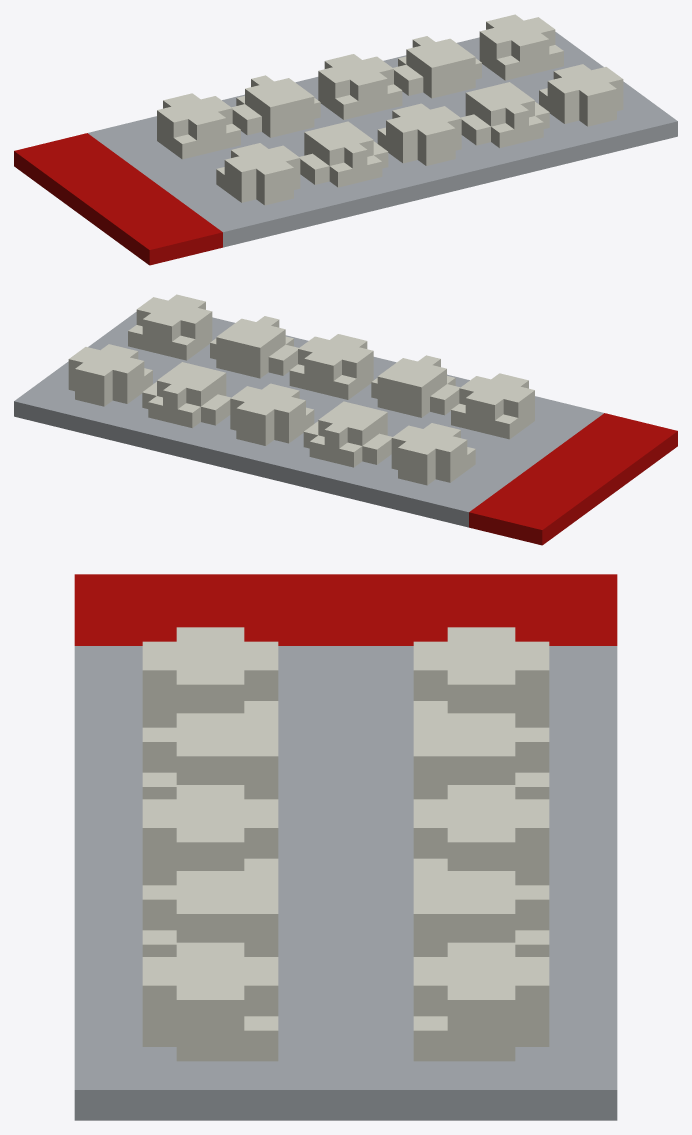
Rendered from metoprolol.glb.
3 views of the same model, one above another, from view 1: azimuth 30°, elevation 25°; view 2: azimuth 150°, elevation 25°; view 3: azimuth 270°, elevation 25° (orthographic). The views are drawn at different scales.
Parts seen in each view (by area): view 1: metoprolol:compound; view 2: metoprolol:compound; view 3: metoprolol:compound.
Boxes of the visible parts, x1=… form: metoprolol:compound: x1=14, y1=14, x2=677, y2=265; metoprolol:compound: x1=14, y1=294, x2=677, y2=545; metoprolol:compound: x1=74, y1=574, x2=617, y2=1120.
Size of the model in its own units: 0.072 by 0.006 by 0.032.
